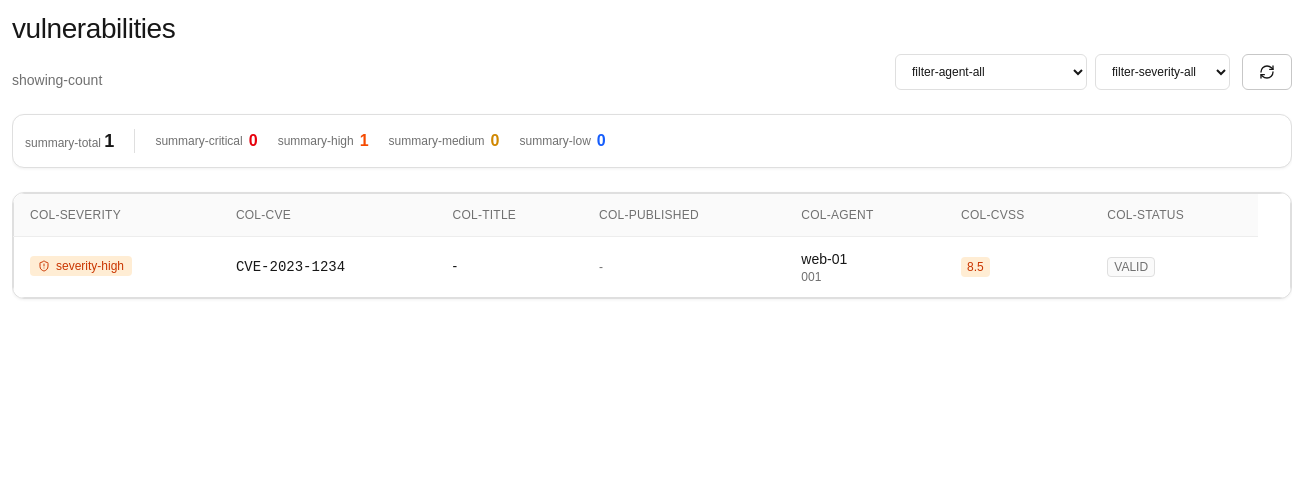
Test: Vulnerabilities page › selects row and shows vulnerability analysis panel on click
This screenshot has width=1304, height=492.
expect the text "CVE-2023-1234" is shown: met, box [236,259,345,275]
Click the row "severity-high CVE-2023-1234 - - web-01 001 8.5 VALID": (81, 266) [14,236,1290,297]
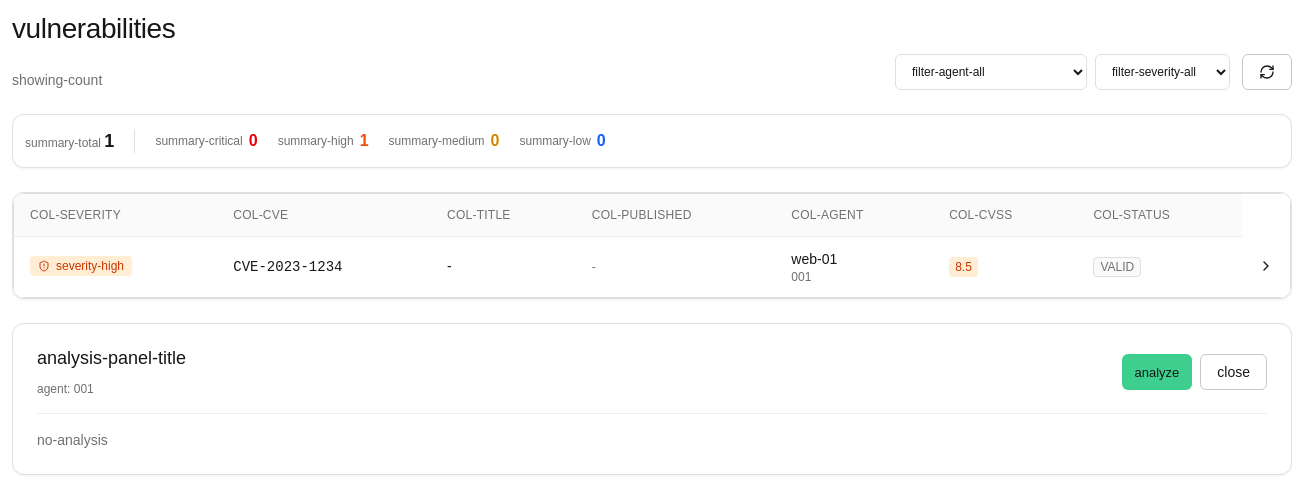
expect the text "no-analysis" is shown: met, box [37,432,108,448]
expect the button with test id "analyze-btn" is shown: met, box [1122,354,1192,390]
